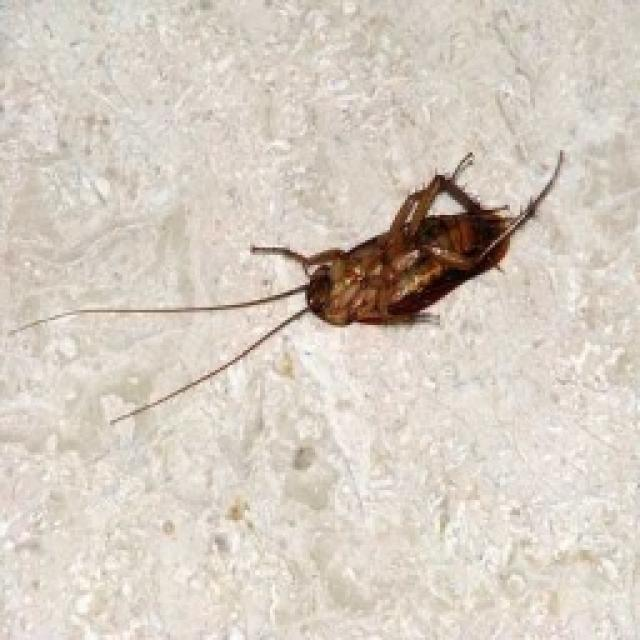cockroach: (59, 128, 619, 414)
